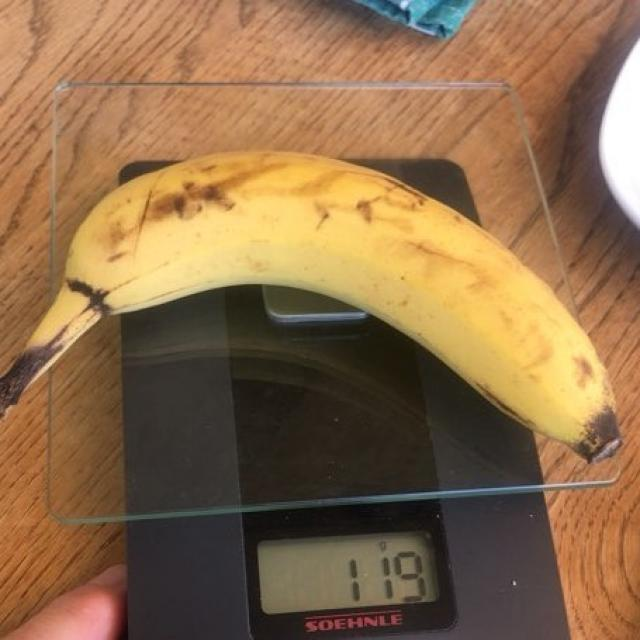banana: (65, 150, 604, 447)
